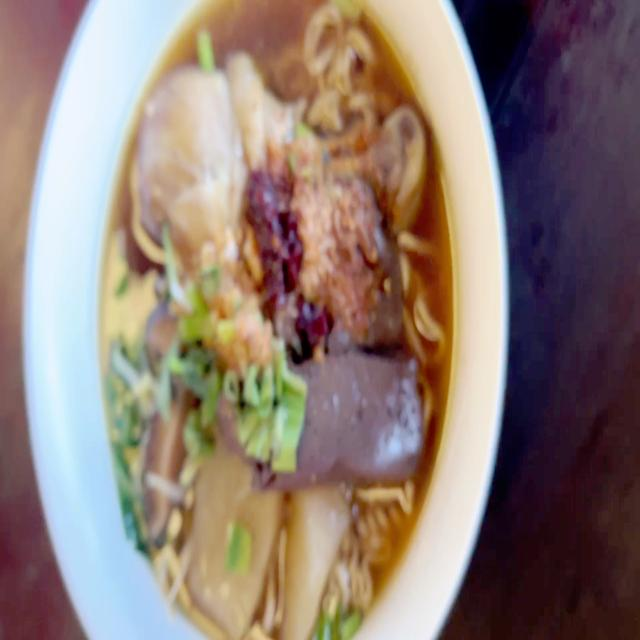boiled_chicken_blood_jelly: (290, 358, 430, 466)
chicken_drumstick: (134, 70, 429, 260)
daikon_radish: (190, 467, 276, 625), (278, 483, 343, 640)
noodle: (88, 0, 452, 640)
